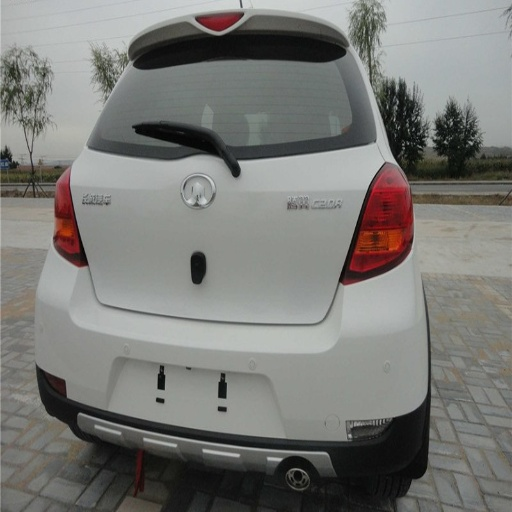back_bumper: (34, 252, 435, 483)
tailgate: (261, 134, 377, 323)
